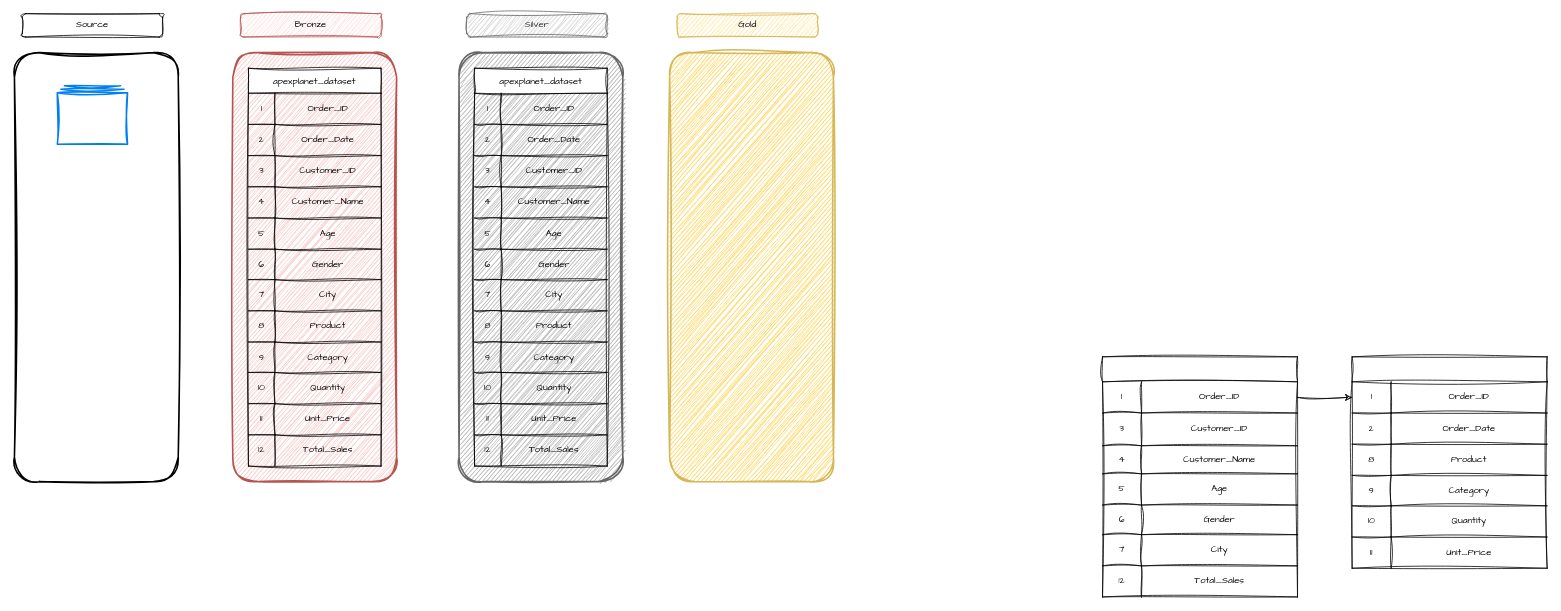
The diagram is 1561 pixels wide and 611 high, and some of its shapes have lost their labels. Each missing label, with the box of its shape:
dim_orders: (1351, 356, 1547, 568)
fact_customer: (1102, 356, 1298, 597)
